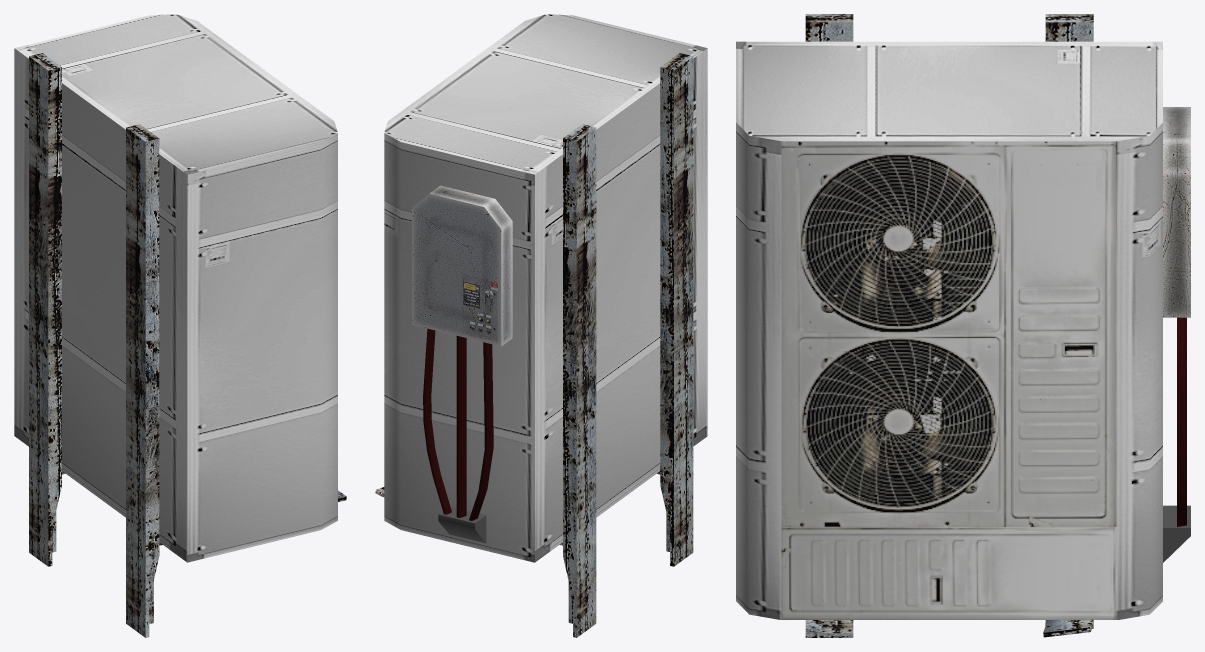
File: aircos0.glb
The picture shows the model from 3 angles, left to right: view 1: azimuth 30°, elevation 25°; view 2: azimuth 150°, elevation 25°; view 3: azimuth 270°, elevation 25°; orthographic projection. The views are drawn at different scales.
Parts seen in each view (by area): view 1: aircos0; view 2: aircos0; view 3: aircos0.
Part boxes in pixels (x1,y1,x2,y2): aircos0: (14, 14, 346, 637); aircos0: (375, 14, 707, 637); aircos0: (736, 14, 1190, 637).
Bounding box in the file's own units: 0.977 × 2.29 × 1.54.
Materials: 1 (1 with a texture image).
